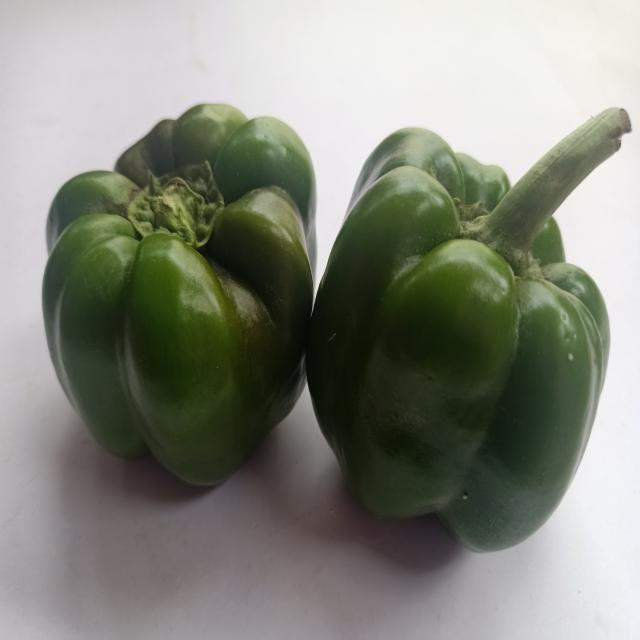Capsicum: (302, 83, 640, 591), (21, 81, 331, 517)
